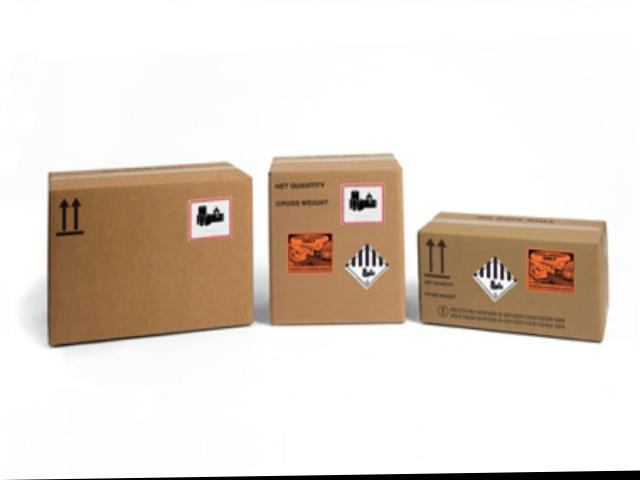package: (49, 159, 253, 346), (417, 211, 609, 341), (267, 154, 406, 326)
